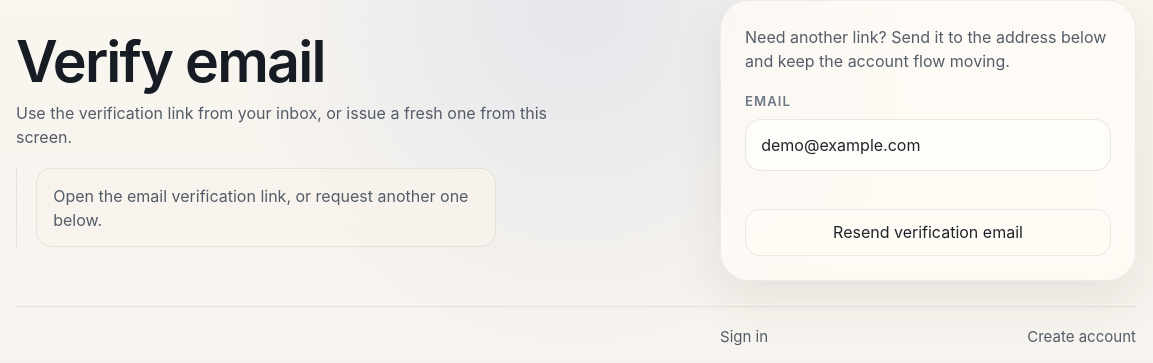
Scenario: VerifyEmailPage › shows a resend error message in the shared shell status area
Click the button "Resend verification email": (928, 232) [745, 209, 1111, 256]
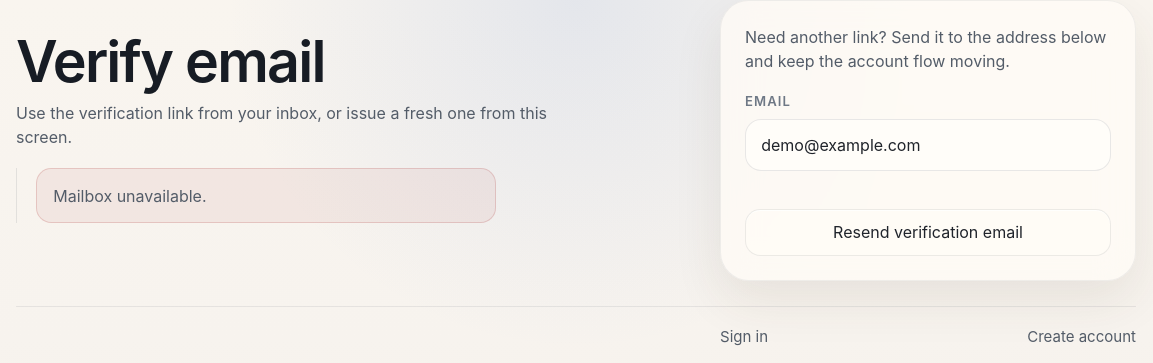
Check: the message reads "Mailbox unavailable.", box [53, 186, 207, 206]
